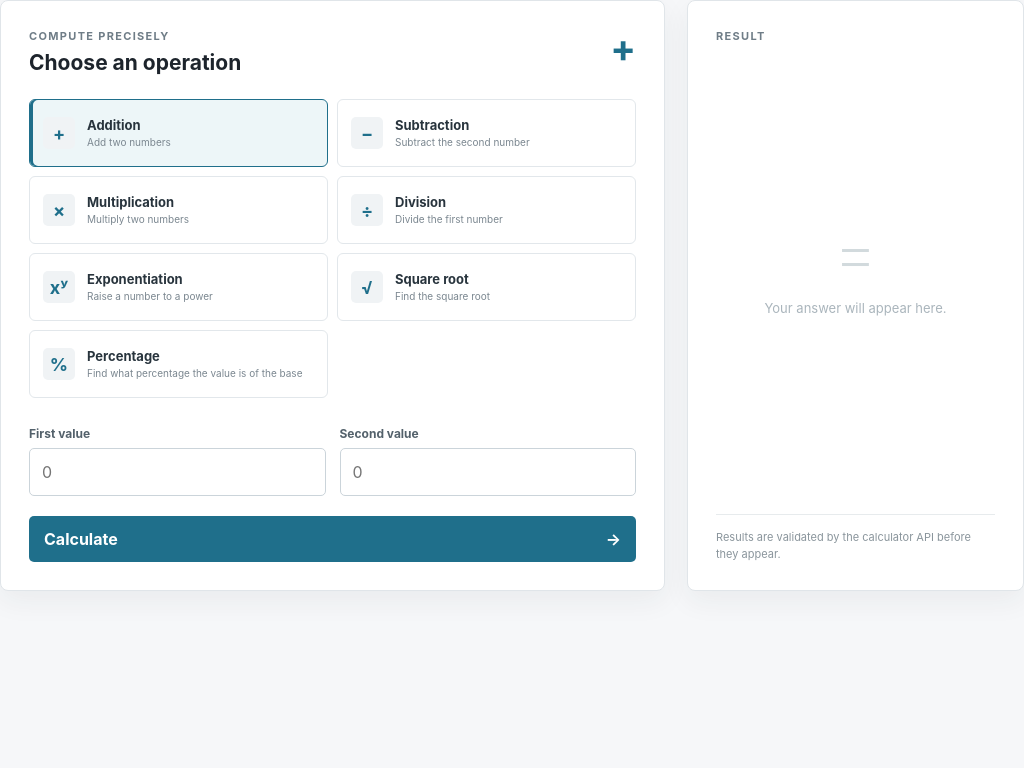
Test: Calculator › validates the second operand and clears old state on operation change
In the number field labelled "First value": (177, 472) left=29, top=448, right=326, bottom=496, type "2"
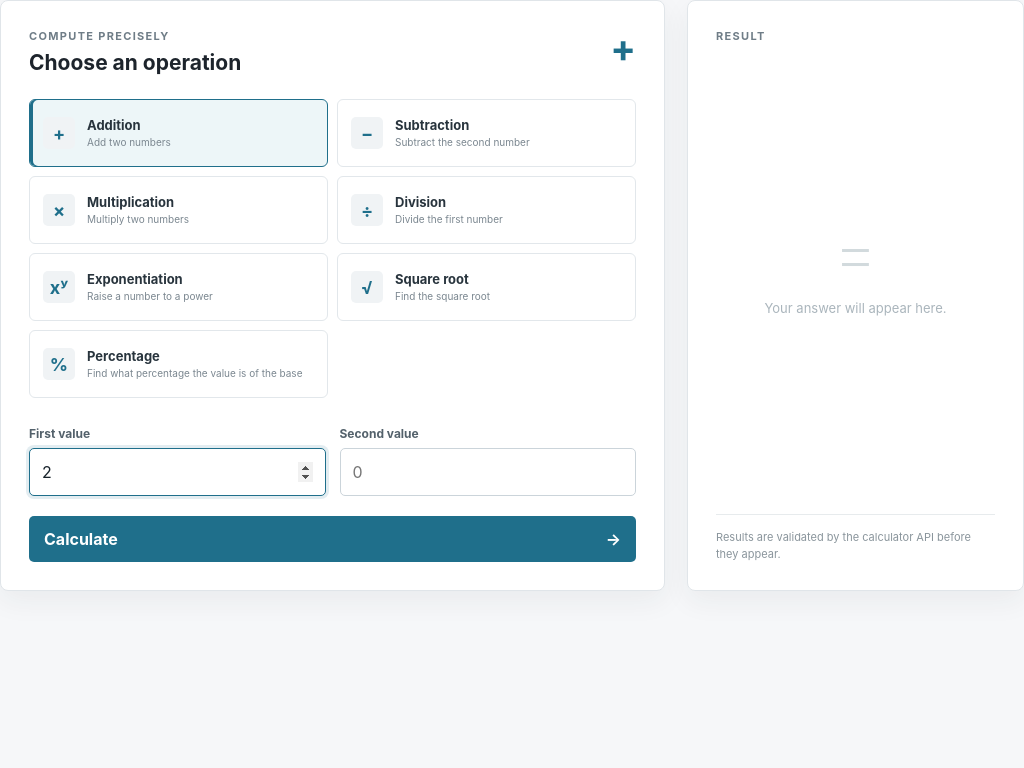
Click the button "% Percentage Find what percentage the value is of the base": (59, 364) left=29, top=330, right=328, bottom=398
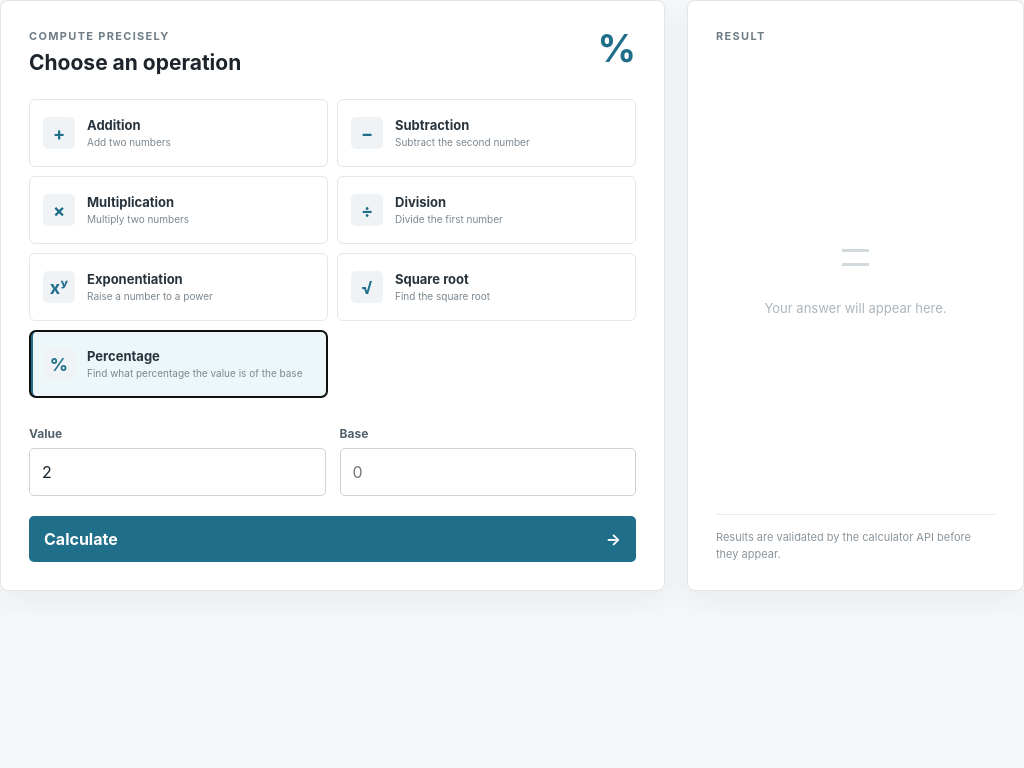
Click the button "Calculate →": (81, 539) left=29, top=516, right=636, bottom=562
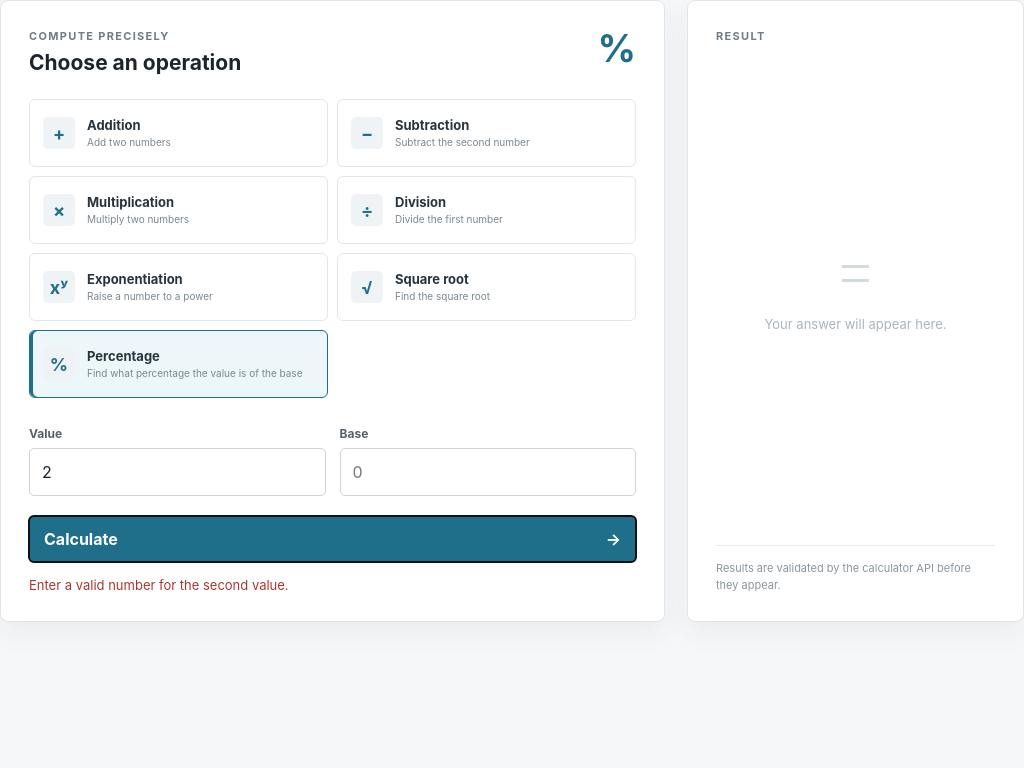
Check: the message shows "second value", box left=29, top=577, right=289, bottom=593
Click the button "√ Square root Find the square root": (367, 287) left=337, top=253, right=636, bottom=321
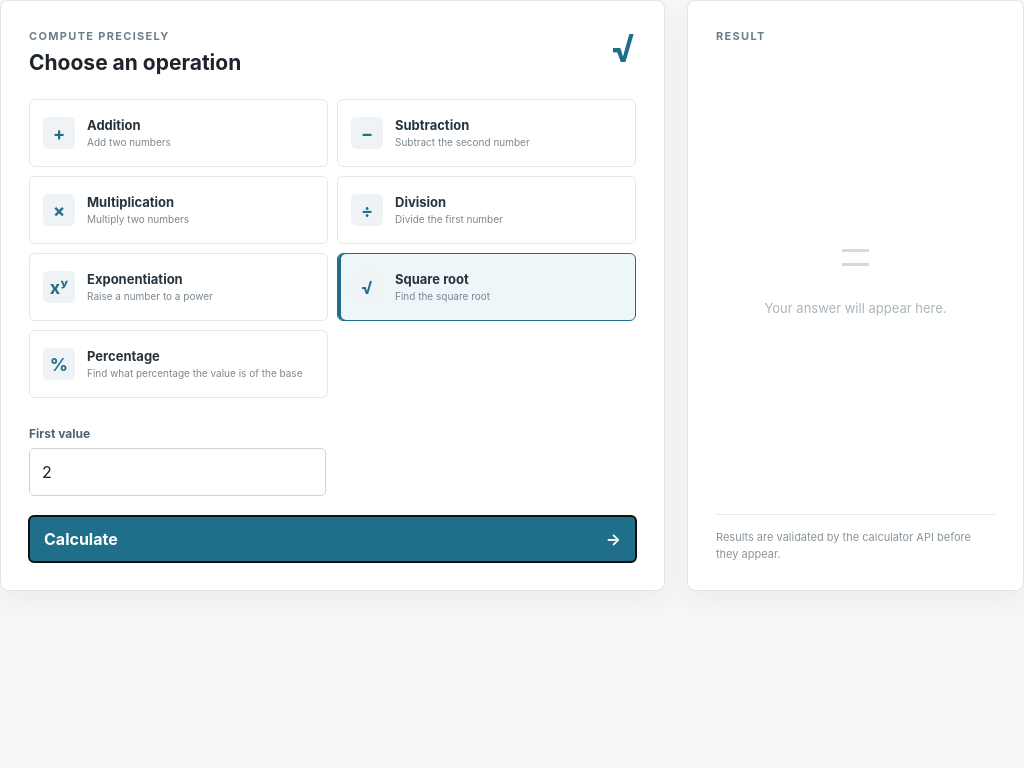
Check: the message "Enter a valid number for the second value." is gone
